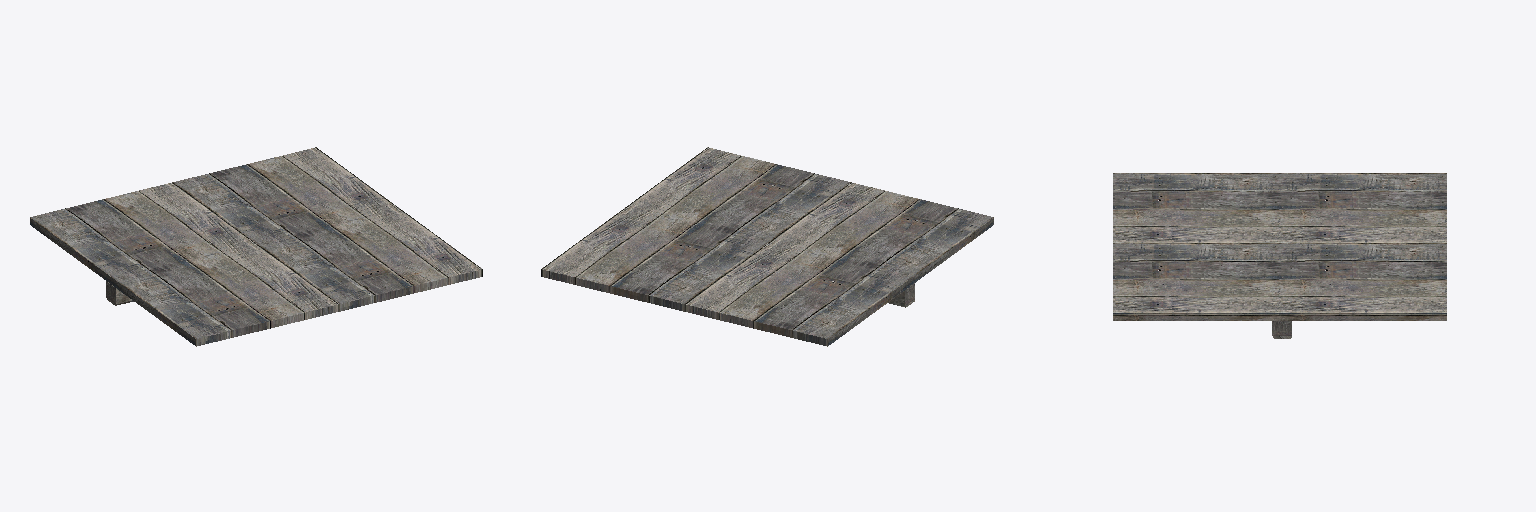
3 renders of one model, left to right at view 1: azimuth 30°, elevation 25°; view 2: azimuth 150°, elevation 25°; view 3: azimuth 270°, elevation 25°, orthographic.
Parts seen in each view (by area): view 1: Box01; view 2: Box01; view 3: Box01.
Boxes of the visible parts, x1=… form: Box01: x1=30, y1=147, x2=482, y2=346; Box01: x1=541, y1=147, x2=993, y2=346; Box01: x1=1113, y1=173, x2=1446, y2=338.
Size of the model in its own units: 2 by 0.1691 by 2.01.
1 materials, 1 textured.